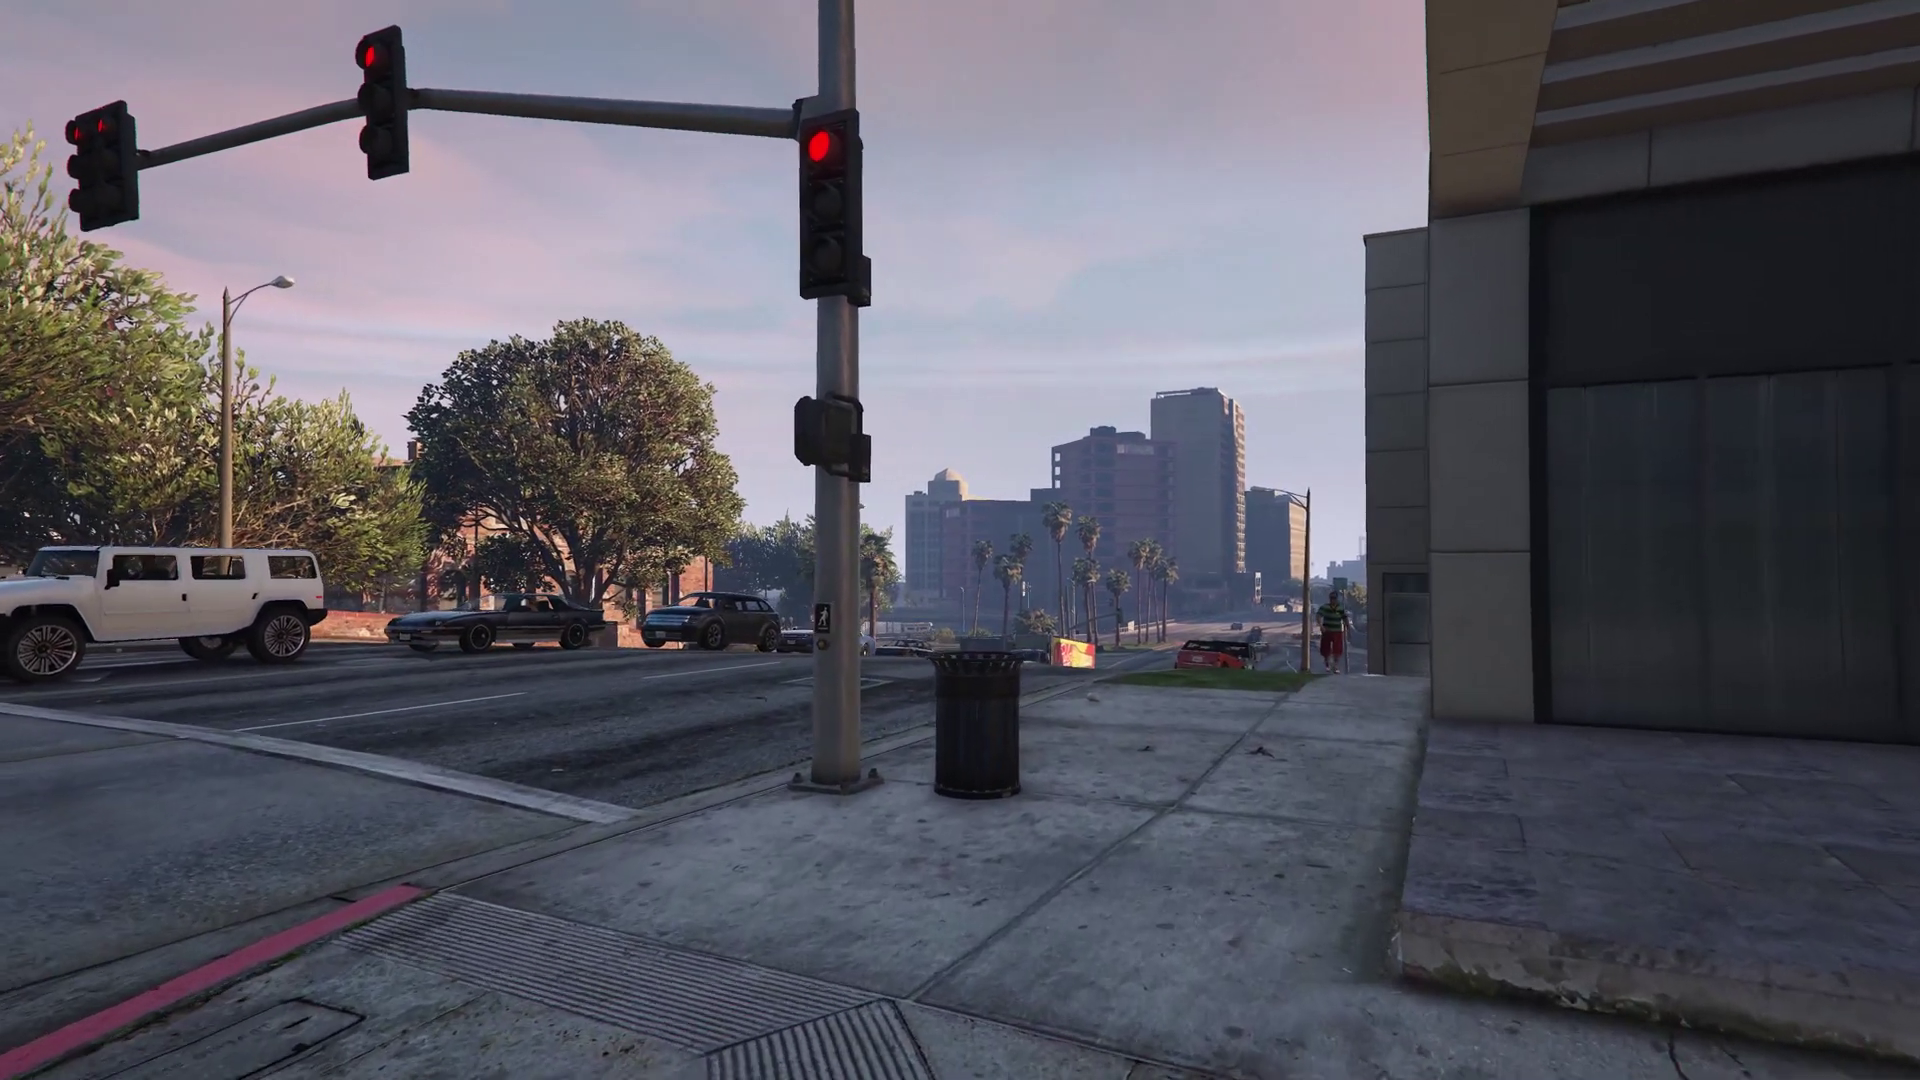car: (1, 551, 326, 682), (387, 592, 604, 655), (640, 592, 782, 654), (782, 624, 877, 660), (1181, 638, 1248, 672), (881, 641, 931, 661)
person: (1315, 591, 1352, 674)
traffic light: (797, 108, 862, 299), (70, 97, 141, 229), (356, 26, 410, 178), (795, 396, 858, 469)
